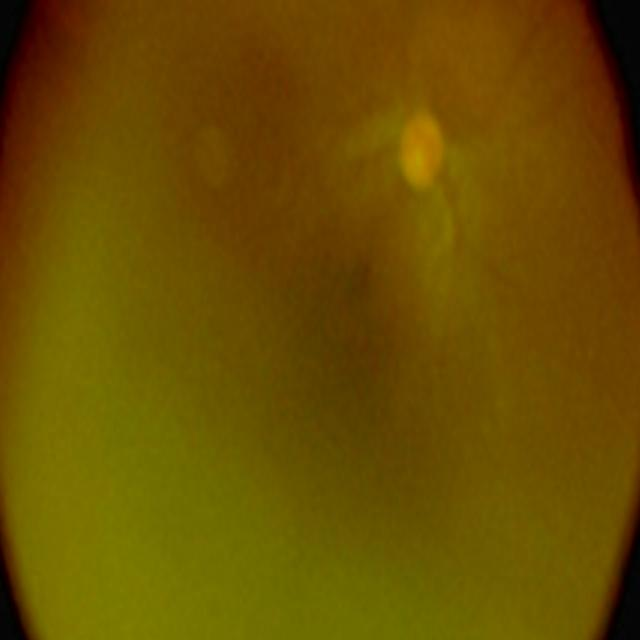optic-nerve: (377, 87, 471, 229)
